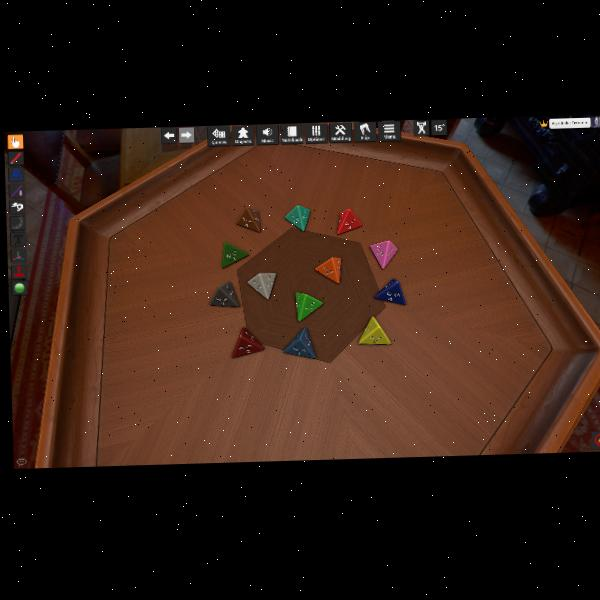d4: (283, 327, 316, 360), (230, 326, 264, 357), (359, 315, 391, 345), (246, 271, 277, 300), (369, 240, 397, 270), (374, 278, 404, 305), (296, 292, 323, 322), (209, 281, 239, 308), (284, 203, 311, 231), (221, 240, 248, 267), (315, 257, 342, 284), (236, 205, 262, 233), (336, 208, 361, 234)
